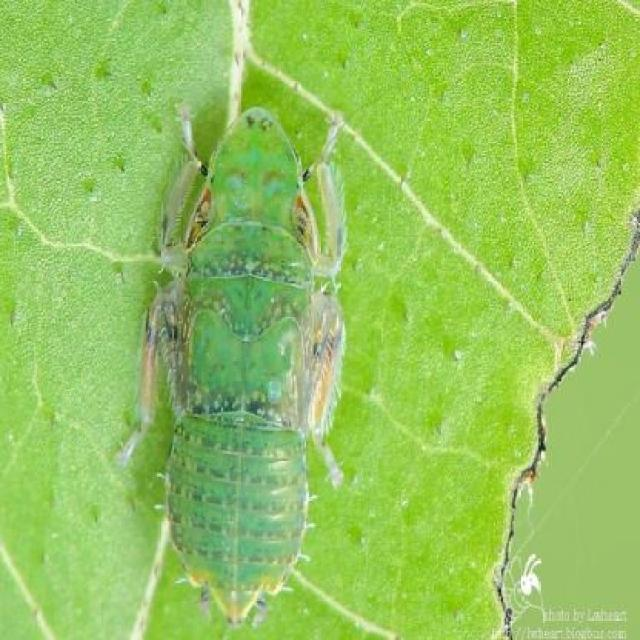green-leafhopper: (143, 109, 343, 617)
